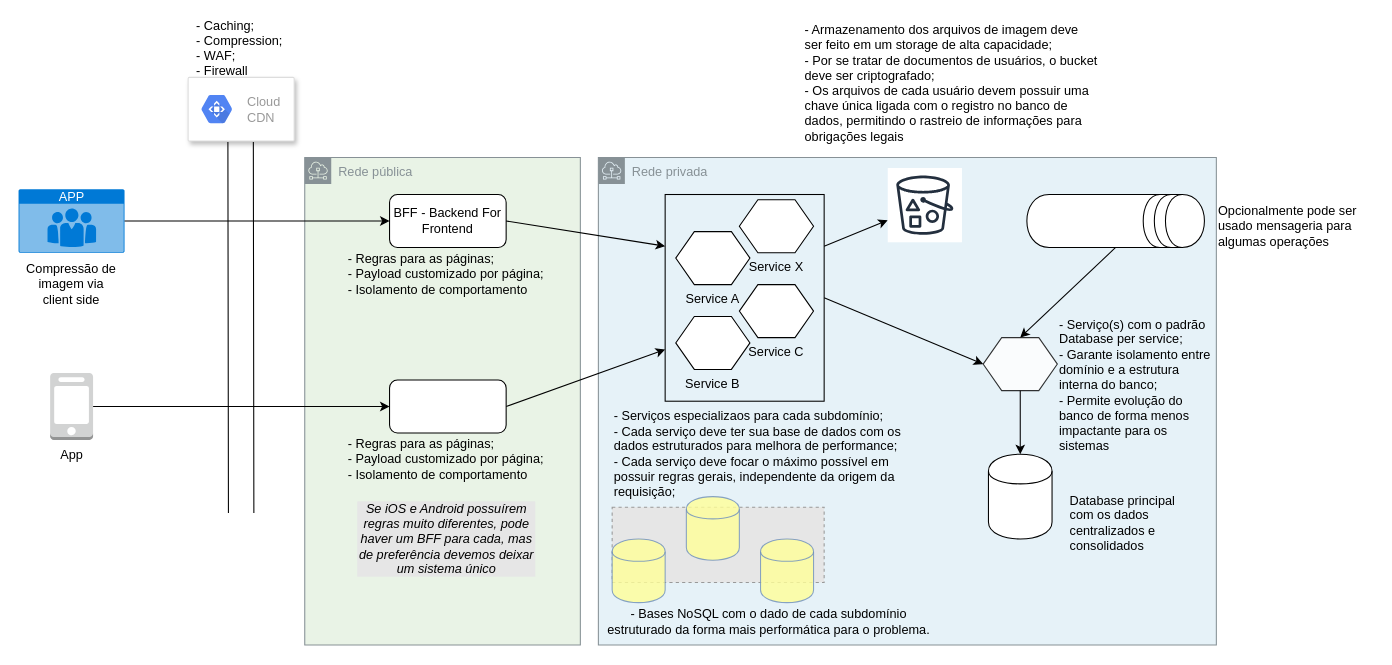
The diagram is 1392 pixels wide and 665 high, and some of its shapes have lost their labels. Grey dashed boxes stand in for pictures. The shapes that lost their labels are listed below. From the top down, each one's centre as x and y in pixels, then its label:
At (x=924, y=204): "Armazenamento de imagens".
At (x=1115, y=220): "Message Queue".
At (x=1019, y=364): "API".
At (x=447, y=406): "BFF Mobile - Backend For Frontend".
At (x=1019, y=496): "Database".
